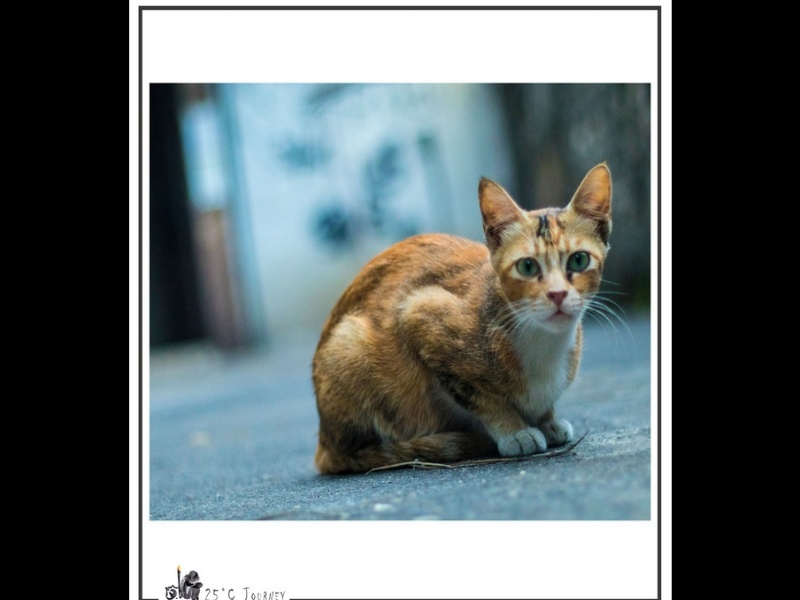cat: (311, 160, 625, 476)
